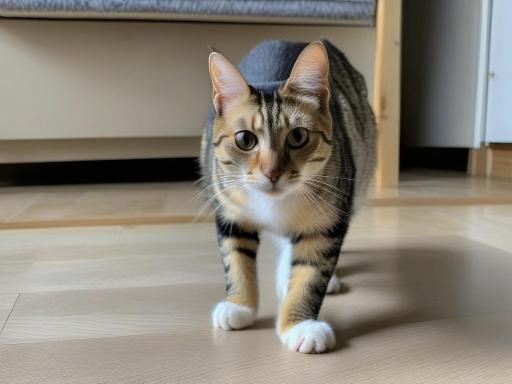cat_standing: (200, 40, 376, 352)
